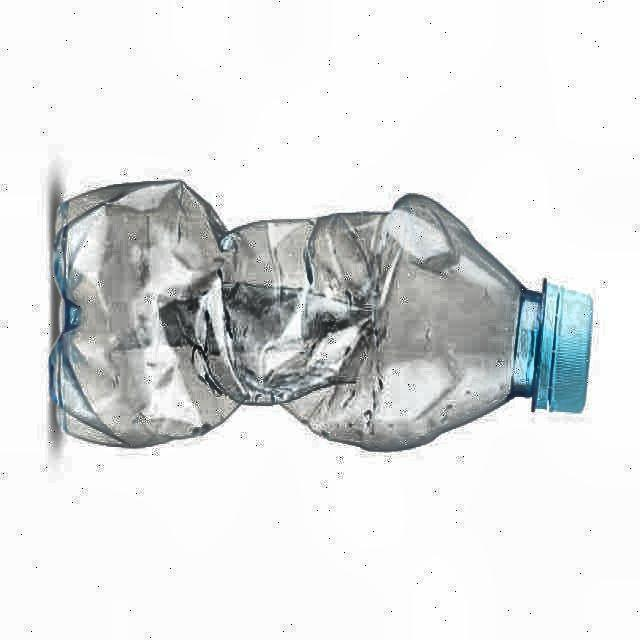plastic: (49, 180, 593, 450)
